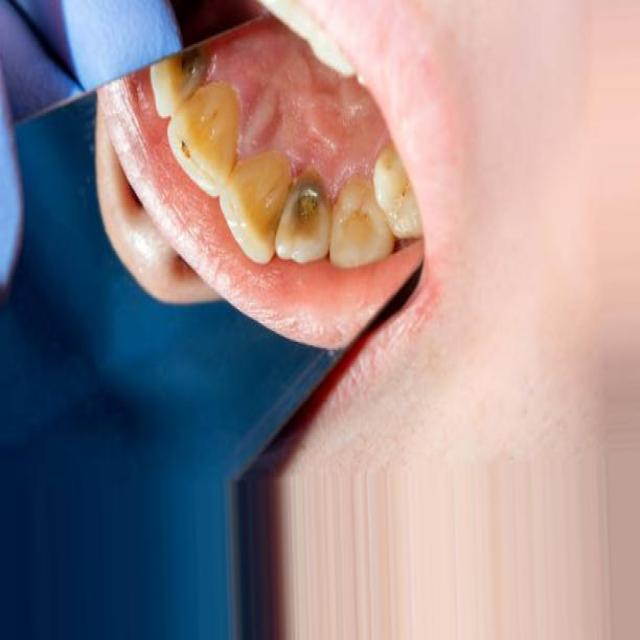caries: (284, 170, 325, 235), (172, 37, 217, 94)
